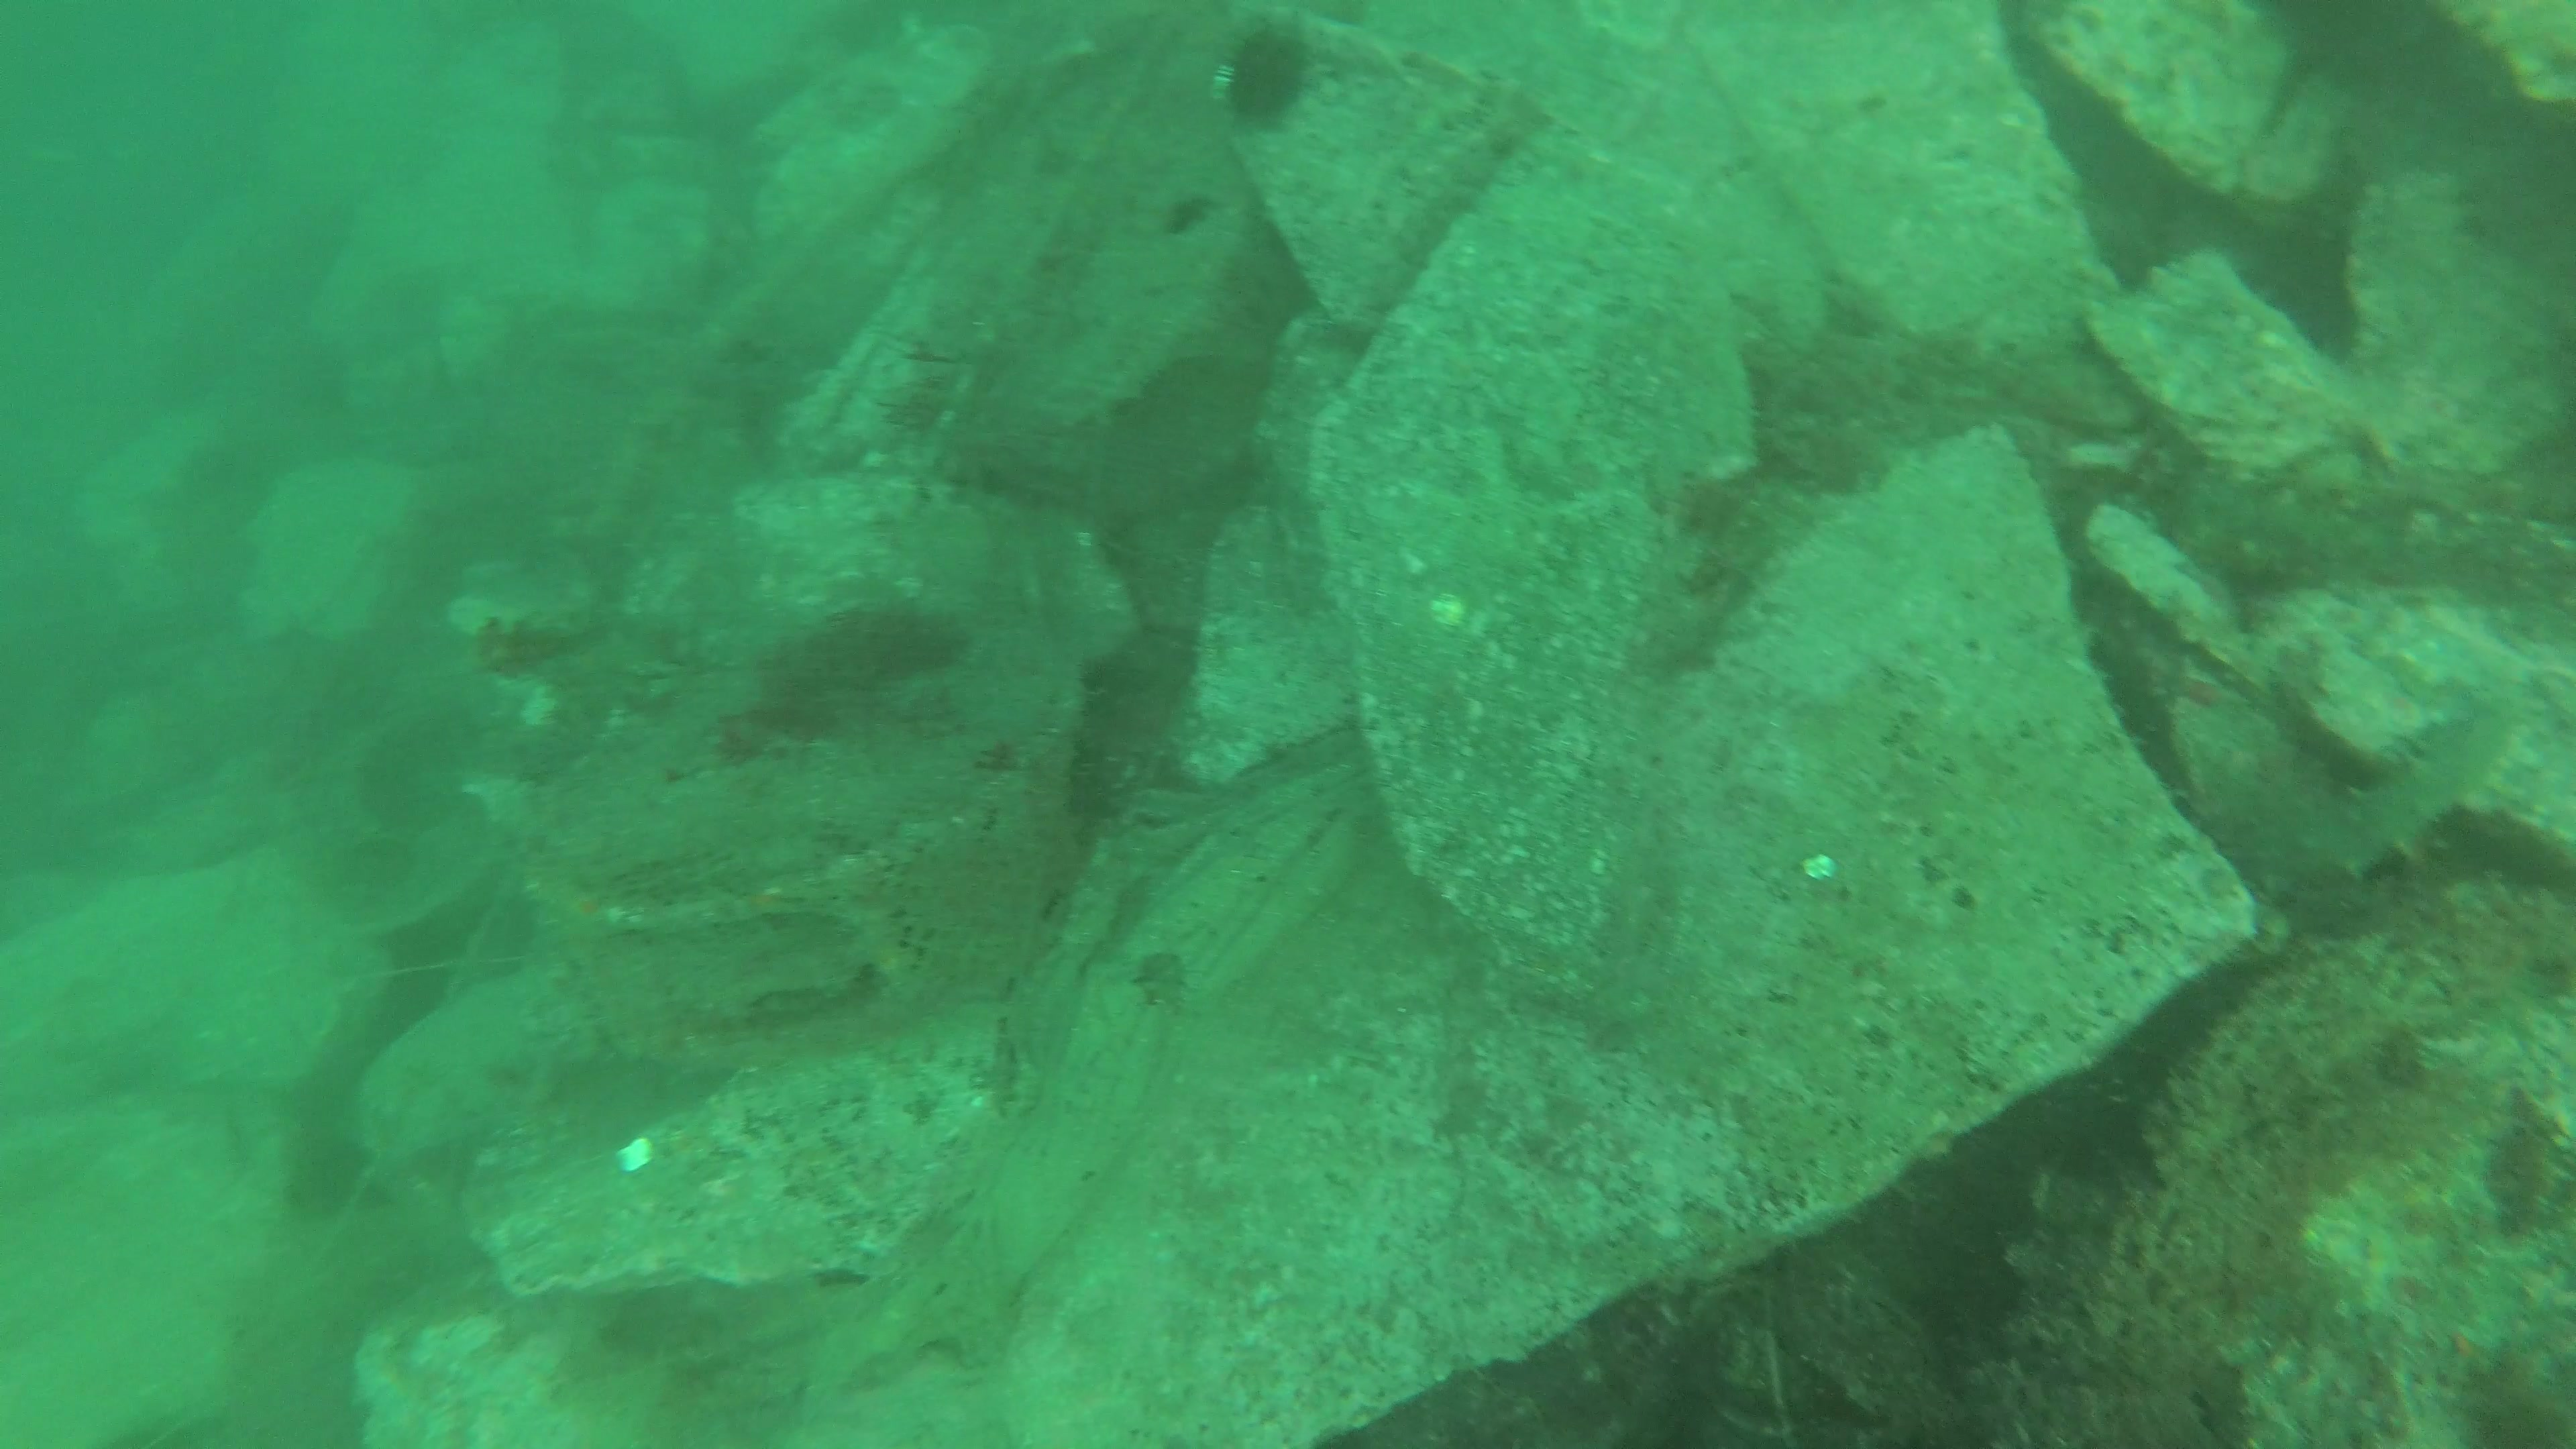echinus: (1214, 11, 1323, 142)
